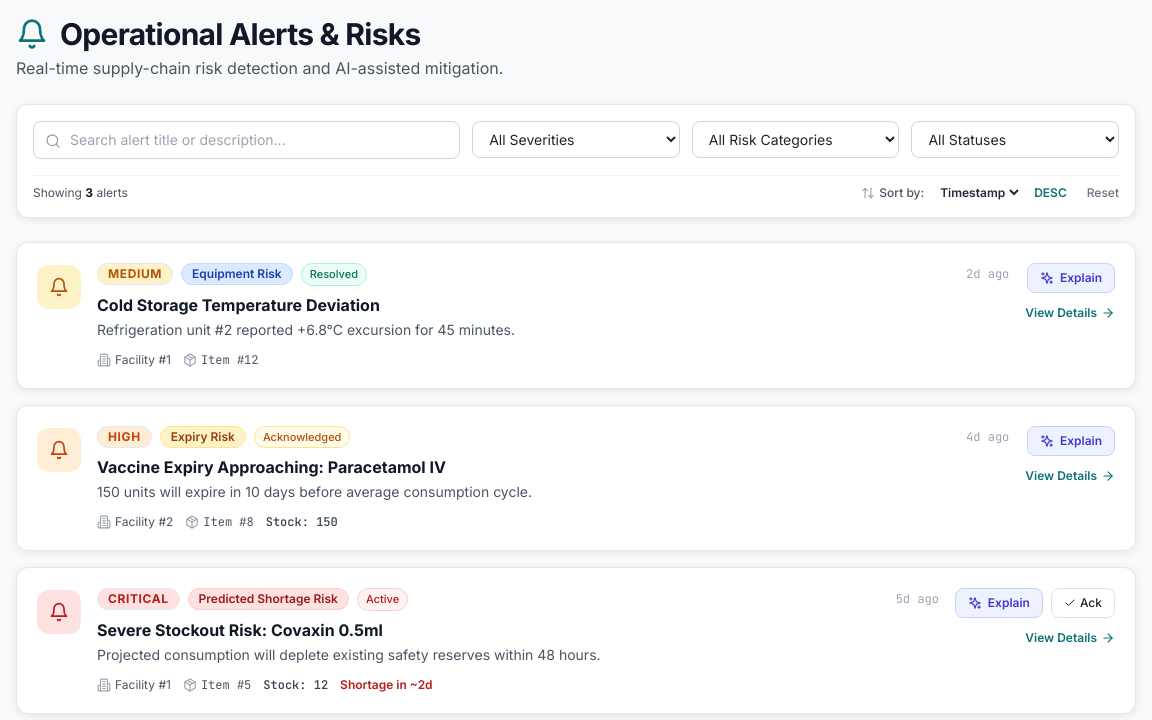
PHASE 22 — Alerts & Predictions Module › Alerts List View (/alerts) › filters alerts by search keyword
Expected: the heading "Severe Stockout Risk: Covaxin 0.5ml" is shown, left=97, top=620, right=383, bottom=640
Type "Paracetamol" into the field with test id "alerts-search-input".
click(247, 140); type("Paracetamol")  # box left=33, top=121, right=460, bottom=159
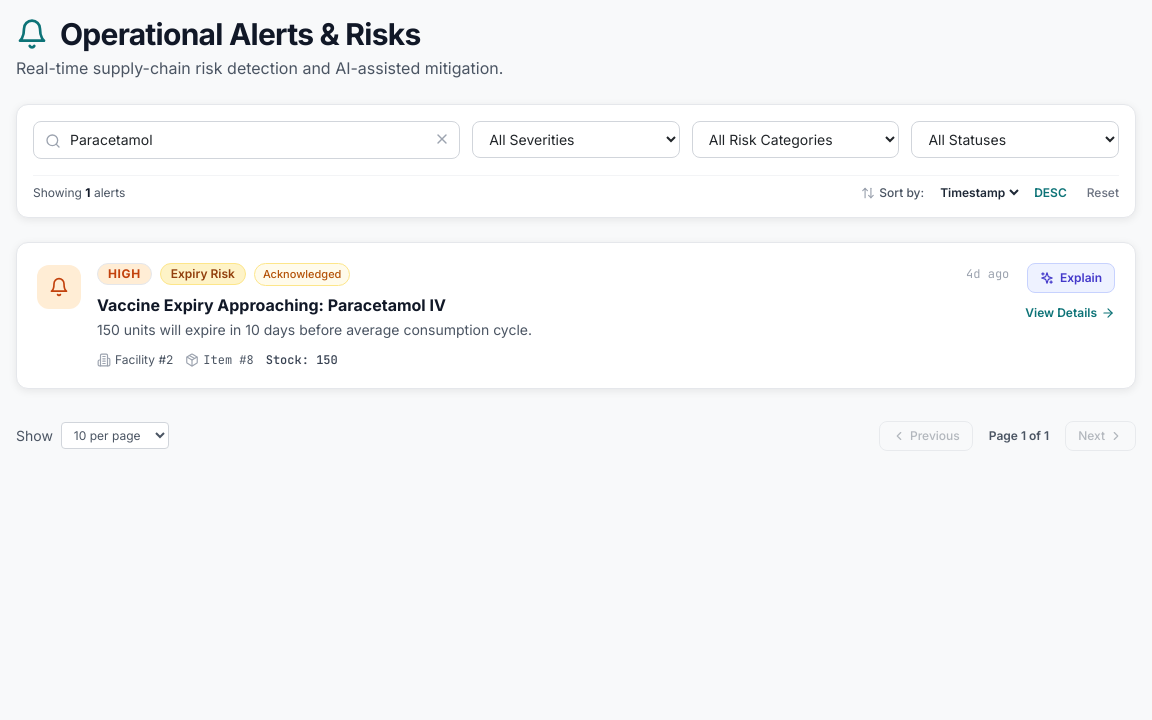
Expected: the heading "Vaccine Expiry Approaching: Paracetamol IV" is shown, left=97, top=294, right=446, bottom=314
Result: the heading "Severe Stockout Risk: Covaxin 0.5ml" is gone
